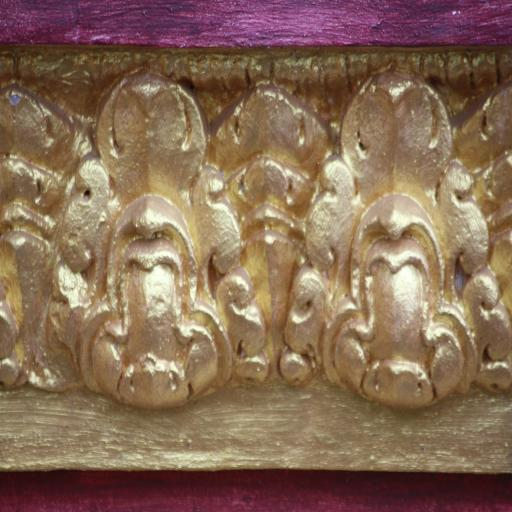la: (328, 65, 492, 407), (78, 66, 236, 408), (223, 73, 335, 397), (0, 86, 83, 400)
